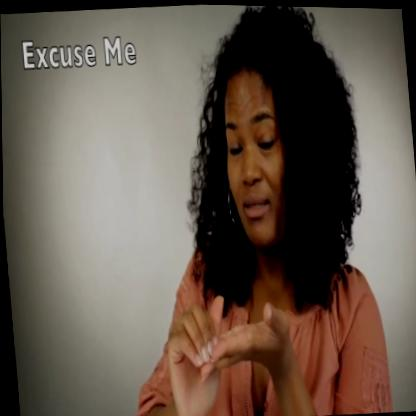ExcuseMe: (137, 9, 392, 416)
